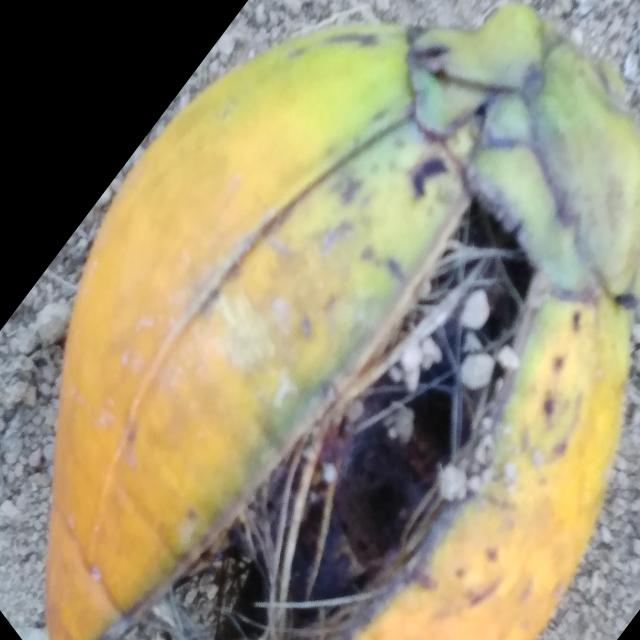damaged: (47, 3, 640, 640)
